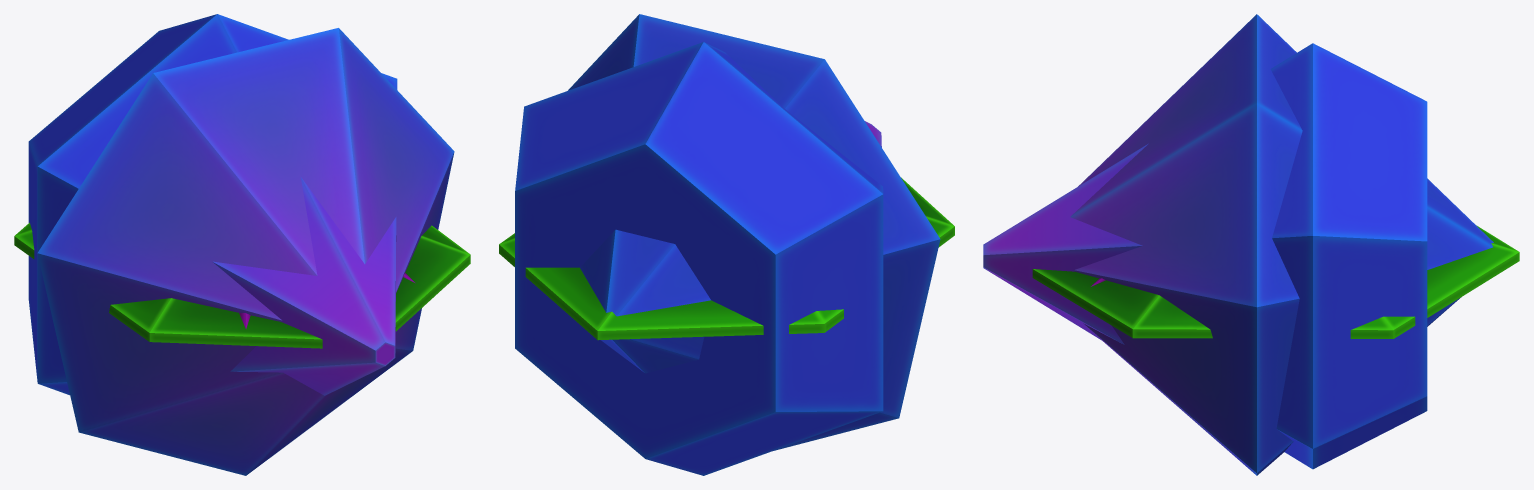
File: cristal.glb
3 renders of one model, left to right at view 1: azimuth 30°, elevation 25°; view 2: azimuth 150°, elevation 25°; view 3: azimuth 270°, elevation 25°, orthographic.
Visible parts, largest first — view 1: Stone5, Stone4, Stone1; view 2: Stone4, Stone5, Stone1; view 3: Stone5, Stone4, Stone1.
Part boxes in pixels (x1,y1,x2,y2): Stone5: (37, 28, 454, 475); Stone4: (28, 14, 397, 395); Stone1: (14, 222, 470, 348); Stone4: (515, 42, 883, 475); Stone5: (568, 14, 940, 450); Stone1: (499, 177, 954, 340); Stone5: (1070, 14, 1493, 475); Stone4: (983, 43, 1427, 469); Stone1: (1032, 225, 1519, 338).
Bounding box in the file's own units: 1.28 × 1.29 × 1.45.
6 materials, 6 textured.
